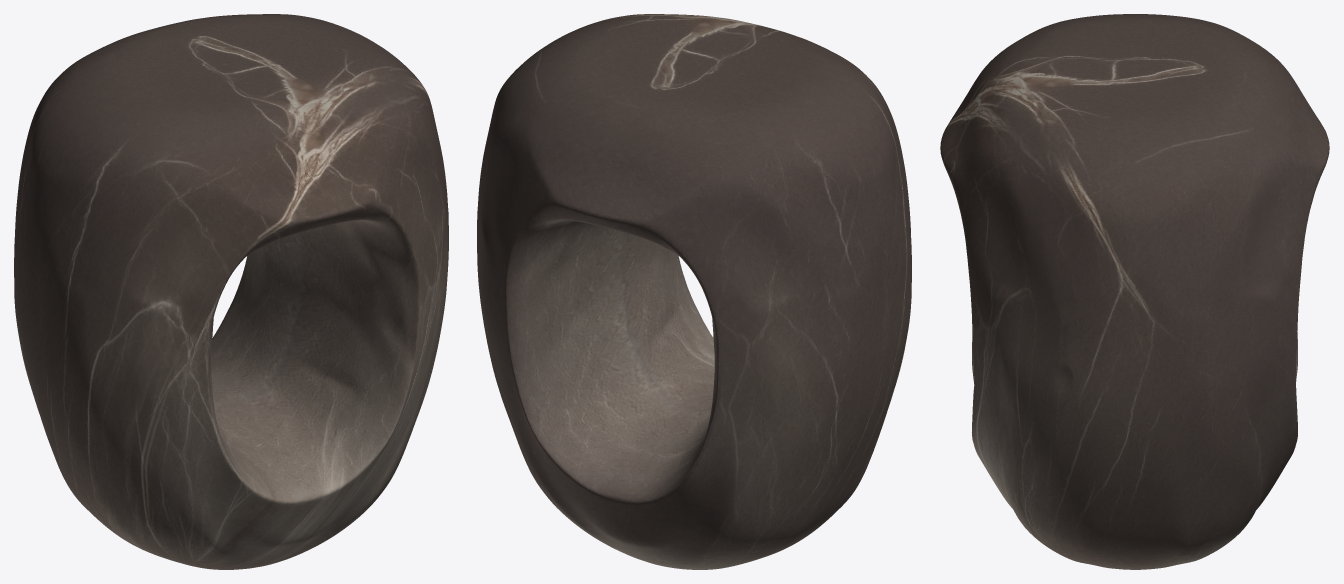
File: ST-KOA-BRN-RES-001.glb
3 views of the same model, side by side, from view 1: azimuth 30°, elevation 25°; view 2: azimuth 150°, elevation 25°; view 3: azimuth 270°, elevation 25° (orthographic).
Visible parts, largest first — view 1: mesh_node; view 2: mesh_node; view 3: mesh_node.
Boxes of the visible parts, x1,y1,x2,y2 form: mesh_node: [14, 14, 448, 569]; mesh_node: [477, 14, 911, 569]; mesh_node: [940, 14, 1329, 569].
Size of the model in its own units: 1.59 by 1.9 by 1.4.
1 material, 1 textured.
